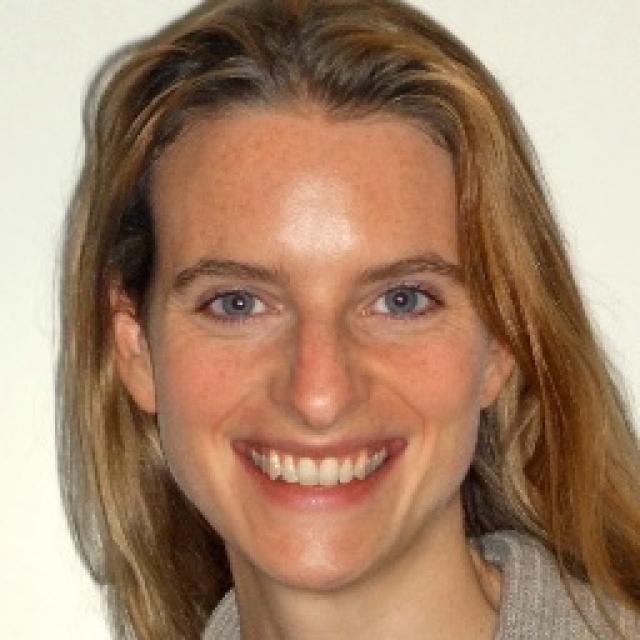earlobe: (122, 364, 158, 414), (479, 359, 510, 409)
eye: (360, 288, 442, 318), (195, 290, 274, 320)
nose: (276, 402, 366, 436)
wholeear: (95, 263, 159, 415)
